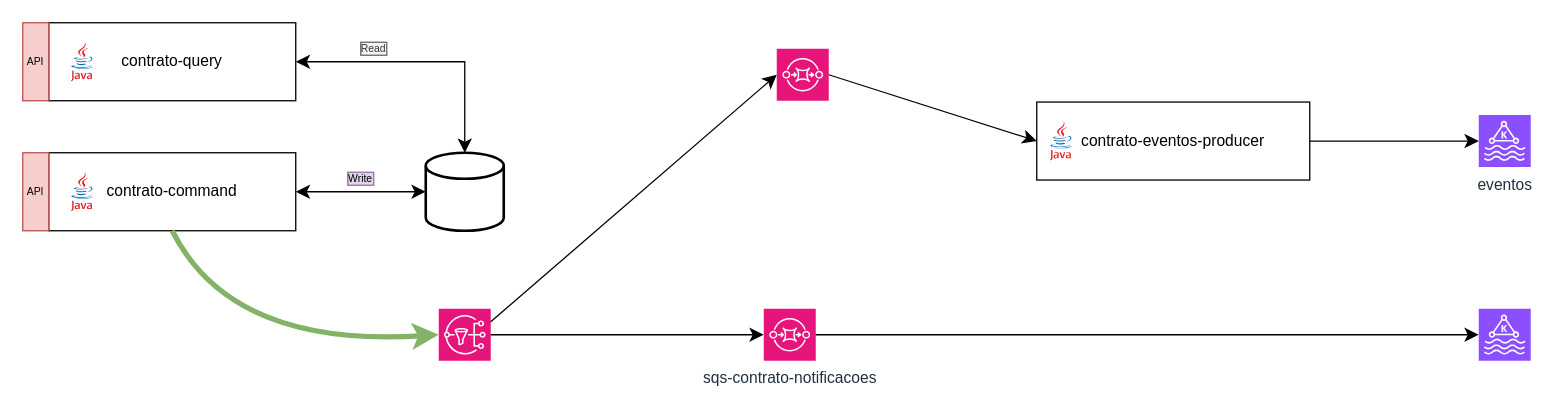
Image size: 1564x411. Some labels were removed from this diagram. Each missing label, with the centre of its shape:
"notificacao" goes at [1504,334].
"PostgreSQL v16" goes at [464,191].
"sqs-contrato-maq-eventos" goes at [802,74].
